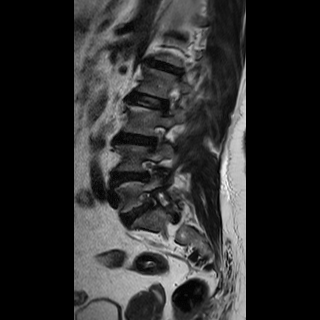LFS2: (143, 118, 169, 154), (134, 155, 161, 187)
